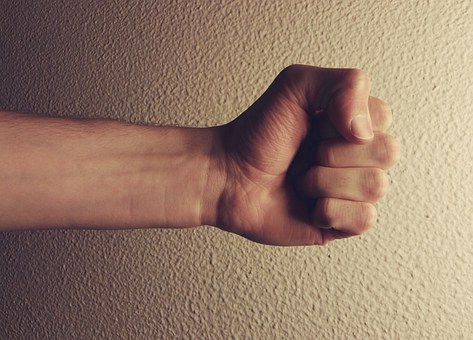fist: (231, 60, 377, 258)
